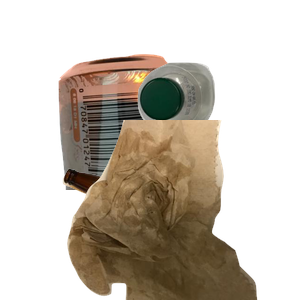glass: (60, 166, 241, 300)
metal: (56, 52, 242, 232)
plastic: (135, 60, 300, 184)
trash: (65, 120, 300, 300)
